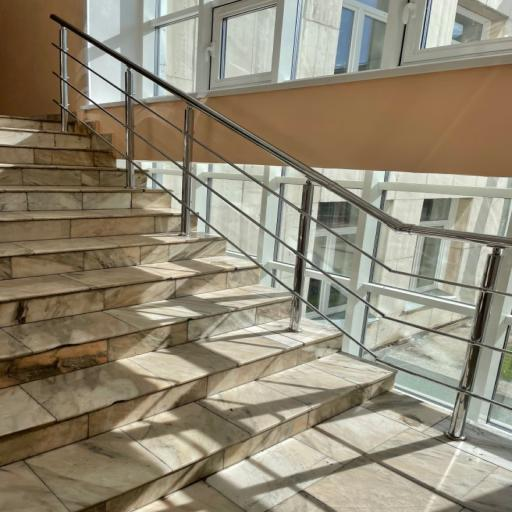sofa: (0, 117, 394, 511)
